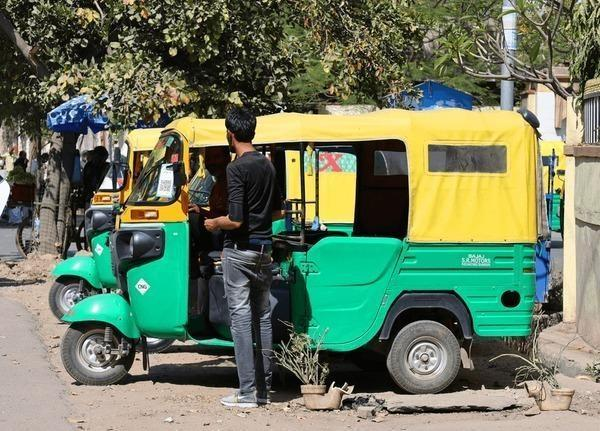keke: (44, 111, 532, 416)
